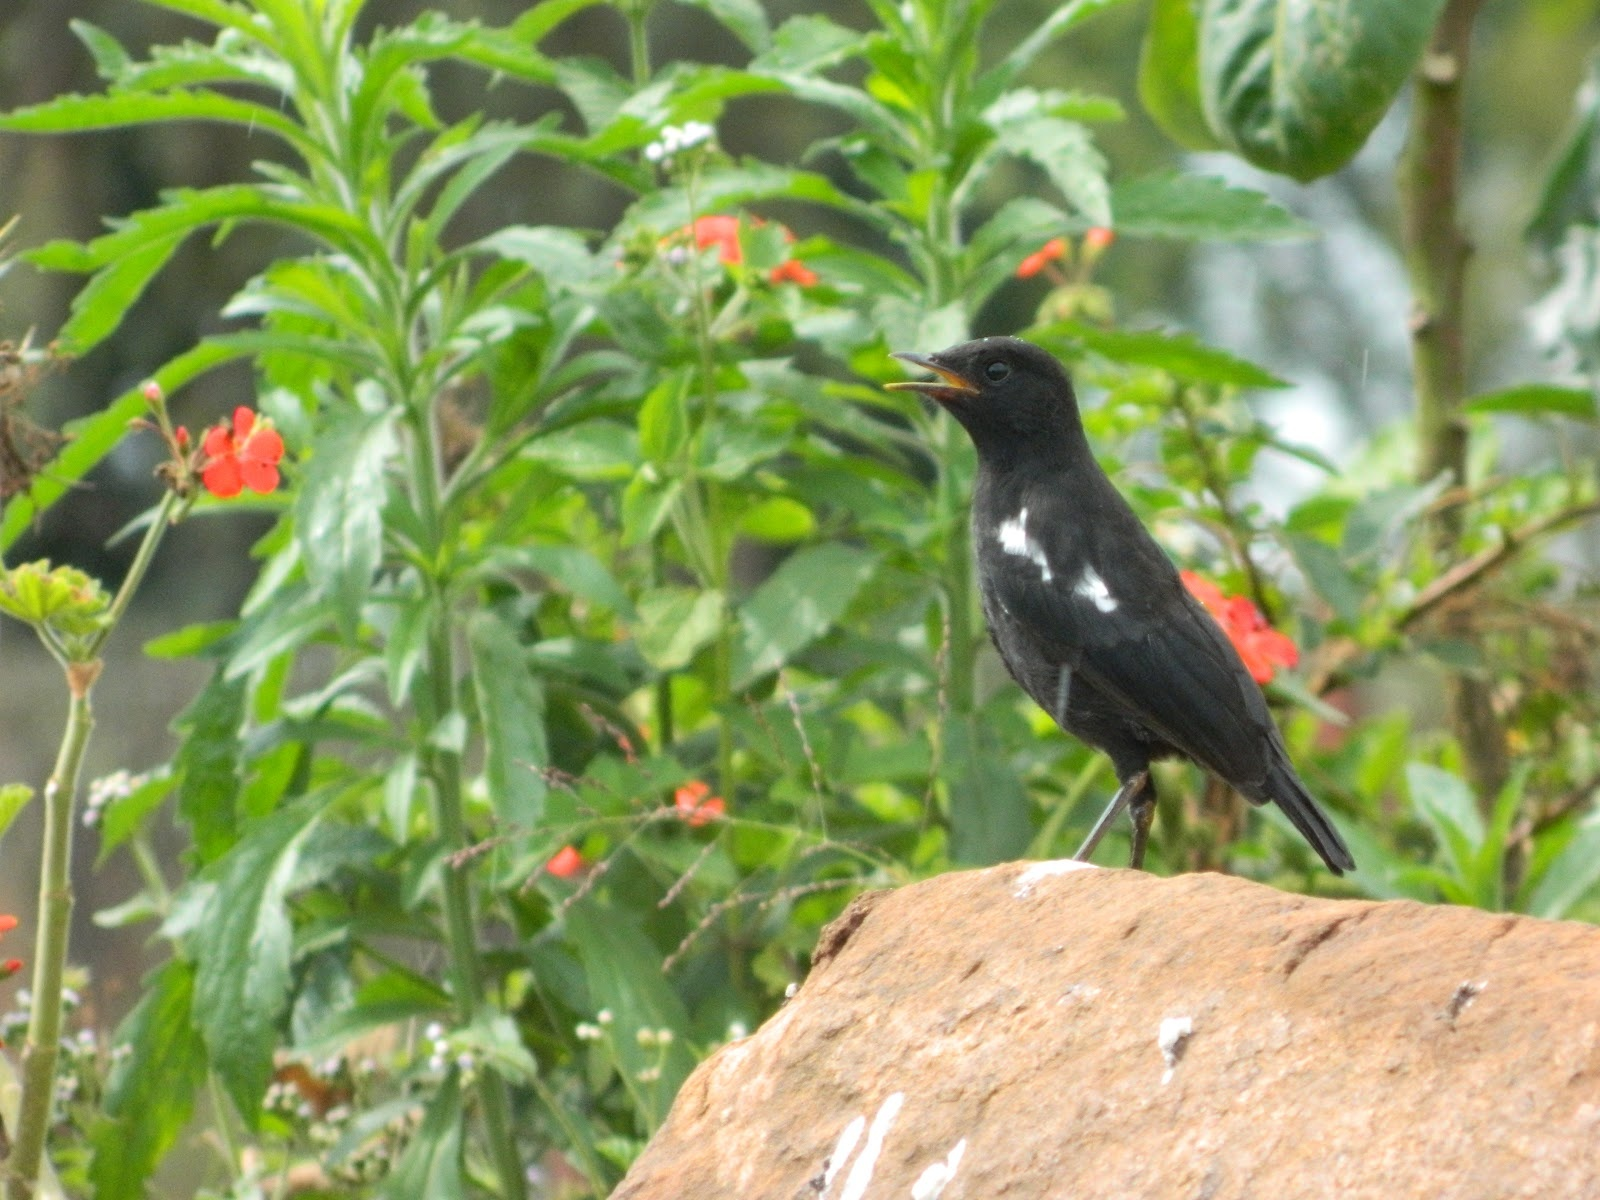bird: (876, 321, 1371, 897)
